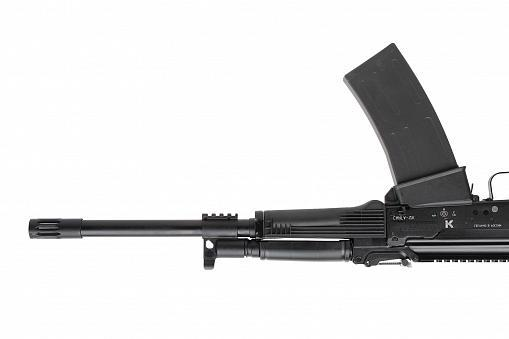larga: (29, 42, 509, 270)
